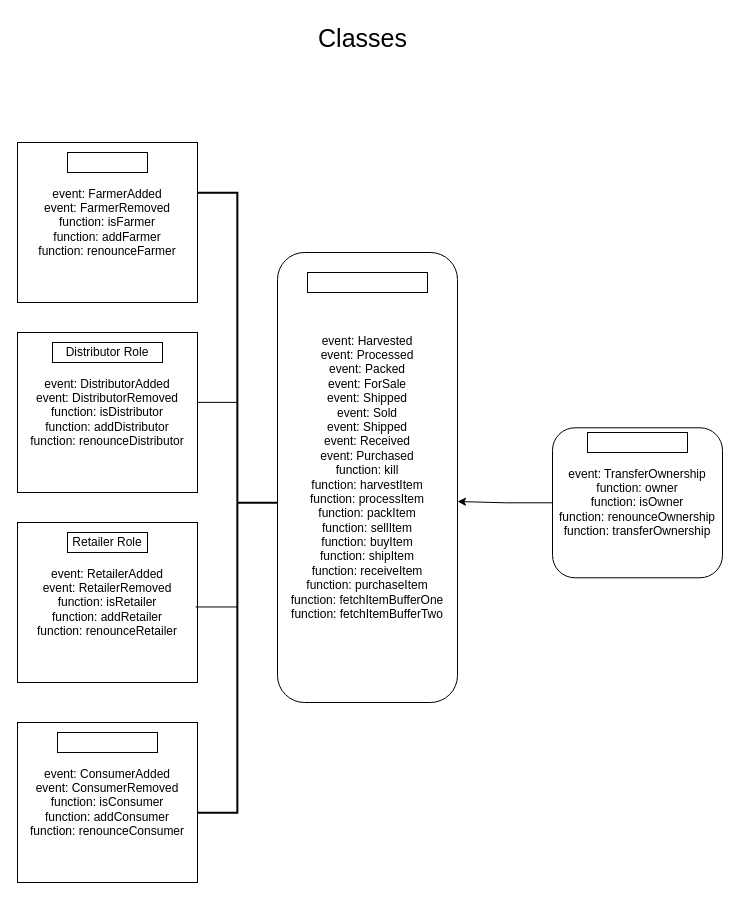
This 740x900 diagram has some shape labels left out. Each missing label, with the centre of its shape:
"Consumer Role" goes at pixel 107 742.
"Farmer Role" goes at pixel 107 162.
"Ownable.sol" goes at pixel 637 442.
"Supply Chain" goes at pixel 367 282.
